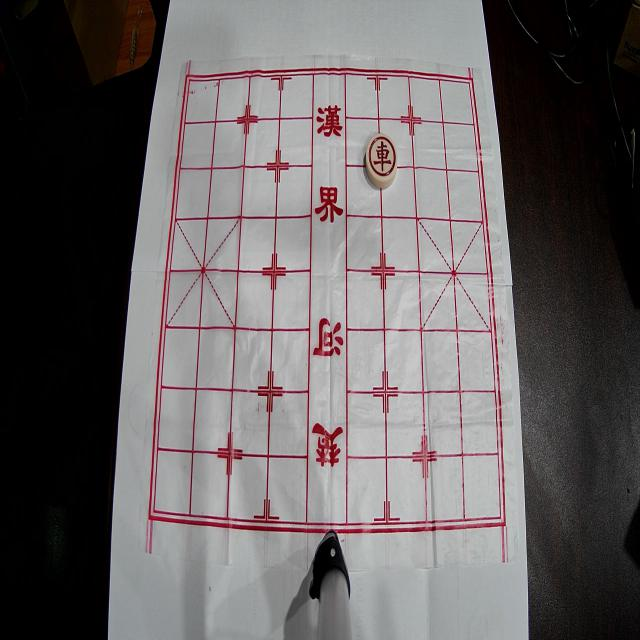red-chariot: (366, 133, 398, 188)
